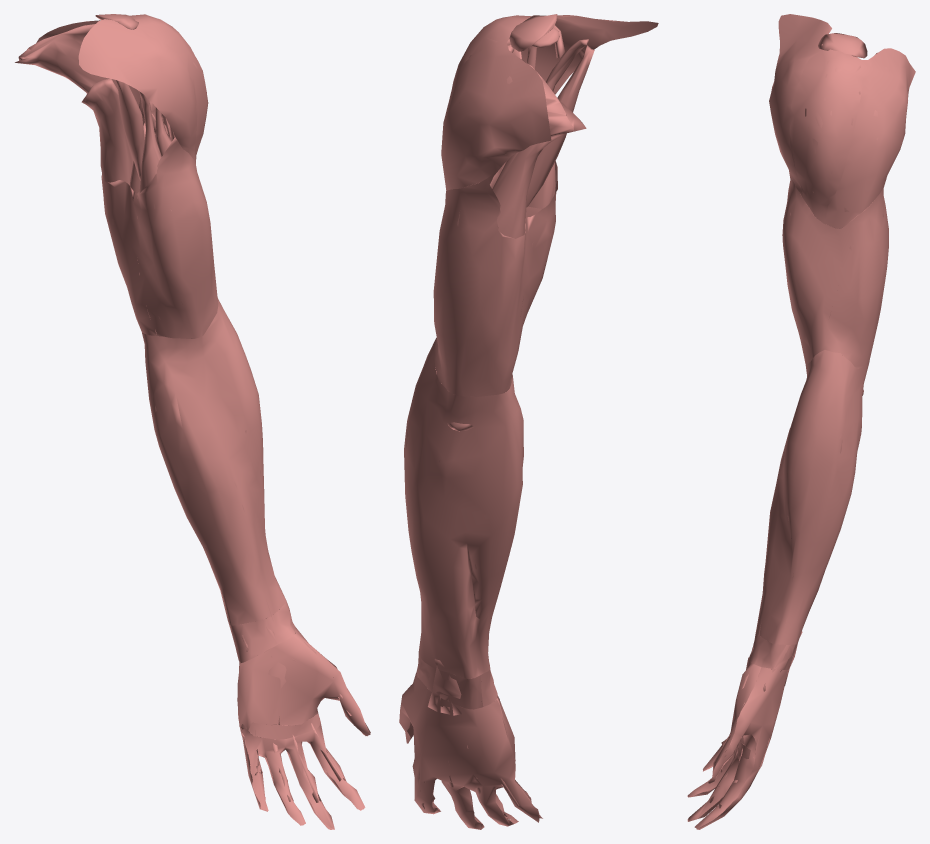
The model's file is lod1-arm-left-muscle.glb.
The picture shows the model from 3 angles, left to right: view 1: azimuth 30°, elevation 25°; view 2: azimuth 150°, elevation 25°; view 3: azimuth 270°, elevation 25°; orthographic projection. The views are drawn at different scales.
Visible parts, largest first — view 1: part::Antebrachial fascia.l, part::Brachial fascia.l, part::Palmar aponeurosis.l, part::Deltoid fascia.l, part::Long head of triceps brachii.l, part::Scapular spinal part of deltoid muscle.l, part::Flexor retinaculum of wrist.l, part::Coracobrachialis muscle.l, part::Short head of biceps brachii.l, part::Superficial transverse metacarpal ligament.l, part::Dorsal fascia of hand.l; view 2: part::Antebrachial fascia.l, part::Brachial fascia.l, part::Deltoid fascia.l, part::Dorsal fascia of hand.l, part::Long head of triceps brachii.l, part::Coracobrachialis muscle.l, part::Extensor retinaculum of wrist.l, part::Scapular spinal part of deltoid muscle.l, part::Short head of biceps brachii.l, part::Subcutaneous acromial bursa.l, part::Tendon sheath of extensor digitorum and extensor indic, part::Palmar aponeurosis.l; view 3: part::Deltoid fascia.l, part::Antebrachial fascia.l, part::Brachial fascia.l, part::Dorsal fascia of hand.l, part::Palmar aponeurosis.l, part::Subcutaneous acromial bursa.l, part::Flexor retinaculum of wrist.l.
Part boxes in pixels (<box>): part::Antebrachial fascia.l: <box>142,298,286,625</box>; part::Brachial fascia.l: <box>101,137,218,338</box>; part::Palmar aponeurosis.l: <box>237,632,370,829</box>; part::Deltoid fascia.l: <box>36,14,208,163</box>; part::Long head of triceps brachii.l: <box>81,78,133,224</box>; part::Scapular spinal part of deltoid muscle.l: <box>15,24,174,140</box>; part::Flexor retinaculum of wrist.l: <box>229,602,295,662</box>; part::Coracobrachialis muscle.l: <box>116,80,144,180</box>; part::Short head of biceps brachii.l: <box>138,91,171,230</box>; part::Superficial transverse metacarpal ligament.l: <box>248,714,320,739</box>; part::Dorsal fascia of hand.l: <box>238,626,370,829</box>; part::Antebrachial fascia.l: <box>404,338,523,679</box>; part::Brachial fascia.l: <box>433,161,557,396</box>; part::Deltoid fascia.l: <box>441,15,658,190</box>; part::Dorsal fascia of hand.l: <box>399,673,539,829</box>; part::Long head of triceps brachii.l: <box>453,134,562,396</box>; part::Coracobrachialis muscle.l: <box>526,45,594,207</box>; part::Extensor retinaculum of wrist.l: <box>416,656,483,709</box>; part::Scapular spinal part of deltoid muscle.l: <box>446,44,586,162</box>; part::Short head of biceps brachii.l: <box>528,39,588,236</box>; part::Subcutaneous acromial bursa.l: <box>509,14,557,51</box>; part::Tendon sheath of extensor digitorum and extensor indic: <box>428,658,461,715</box>; part::Palmar aponeurosis.l: <box>407,695,542,827</box>; part::Deltoid fascia.l: <box>769,14,915,228</box>; part::Antebrachial fascia.l: <box>756,350,869,644</box>; part::Brachial fascia.l: <box>782,170,888,368</box>; part::Dorsal fascia of hand.l: <box>687,667,787,829</box>; part::Palmar aponeurosis.l: <box>687,657,761,828</box>; part::Subcutaneous acromial bursa.l: <box>818,33,867,58</box>; part::Flexor retinaculum of wrist.l: <box>749,631,785,668</box>.
Bounding box in the file's own units: 0.2459 × 0.7262 × 0.207.
